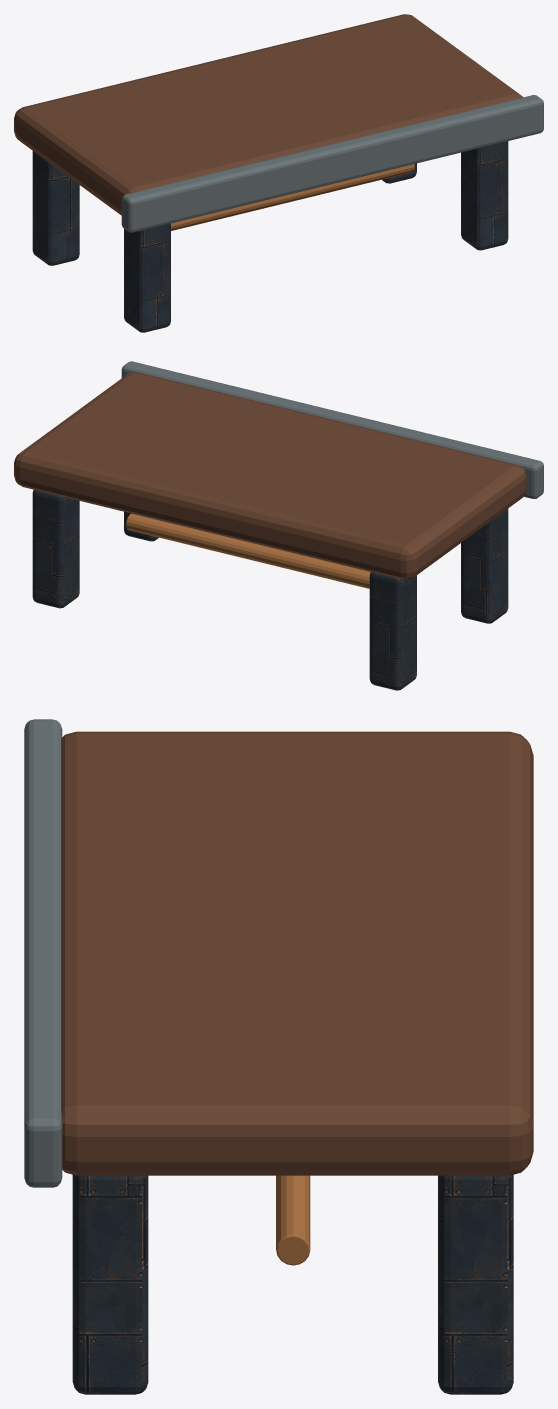
The model's file is APT_Table_Coffee_Service.glb.
3 views of the same model, one above another, from view 1: azimuth 30°, elevation 25°; view 2: azimuth 150°, elevation 25°; view 3: azimuth 270°, elevation 25° (orthographic). The views are drawn at different scales.
Parts seen in each view (by area): view 1: APT_Table_Coffee_Service_Top, APT_Table_Coffee_Service_Edge, APT_Table_Coffee_Service_Leg_0.5670000000000001_-0.265999999, APT_Table_Coffee_Service_Leg_-0.5670000000000001_-0.26599999, APT_Table_Coffee_Service_Leg_-0.5670000000000001_0.265999999, APT_Table_Coffee_Service_Brace; view 2: APT_Table_Coffee_Service_Top, APT_Table_Coffee_Service_Leg_-0.5670000000000001_0.265999999, APT_Table_Coffee_Service_Leg_0.5670000000000001_0.2659999999, APT_Table_Coffee_Service_Edge, APT_Table_Coffee_Service_Leg_-0.5670000000000001_-0.26599999, APT_Table_Coffee_Service_Brace; view 3: APT_Table_Coffee_Service_Top, APT_Table_Coffee_Service_Edge, APT_Table_Coffee_Service_Leg_0.5670000000000001_-0.265999999, APT_Table_Coffee_Service_Leg_0.5670000000000001_0.2659999999, APT_Table_Coffee_Service_Brace.
Part boxes in pixels (<box>): APT_Table_Coffee_Service_Top: <box>14,14,523,215</box>; APT_Table_Coffee_Service_Edge: <box>121,95,543,232</box>; APT_Table_Coffee_Service_Leg_0.5670000000000001_-0.265999999: <box>461,141,508,250</box>; APT_Table_Coffee_Service_Leg_-0.5670000000000001_-0.26599999: <box>124,223,170,332</box>; APT_Table_Coffee_Service_Leg_-0.5670000000000001_0.265999999: <box>32,151,79,265</box>; APT_Table_Coffee_Service_Brace: <box>171,164,414,230</box>; APT_Table_Coffee_Service_Top: <box>14,372,526,579</box>; APT_Table_Coffee_Service_Leg_-0.5670000000000001_0.265999999: <box>369,572,416,690</box>; APT_Table_Coffee_Service_Leg_0.5670000000000001_0.2659999999: <box>32,490,79,608</box>; APT_Table_Coffee_Service_Edge: <box>121,361,543,498</box>; APT_Table_Coffee_Service_Leg_-0.5670000000000001_-0.26599999: <box>461,508,508,623</box>; APT_Table_Coffee_Service_Brace: <box>126,513,370,588</box>; APT_Table_Coffee_Service_Top: <box>61,731,533,1175</box>; APT_Table_Coffee_Service_Edge: <box>24,719,62,1187</box>; APT_Table_Coffee_Service_Leg_0.5670000000000001_-0.265999999: <box>72,1175,148,1394</box>; APT_Table_Coffee_Service_Leg_0.5670000000000001_0.2659999999: <box>438,1174,513,1394</box>; APT_Table_Coffee_Service_Brace: <box>276,1175,310,1265</box>.
Size of the model in its own units: 1.4 by 0.48 by 0.7415.
4 materials, 1 textured.
